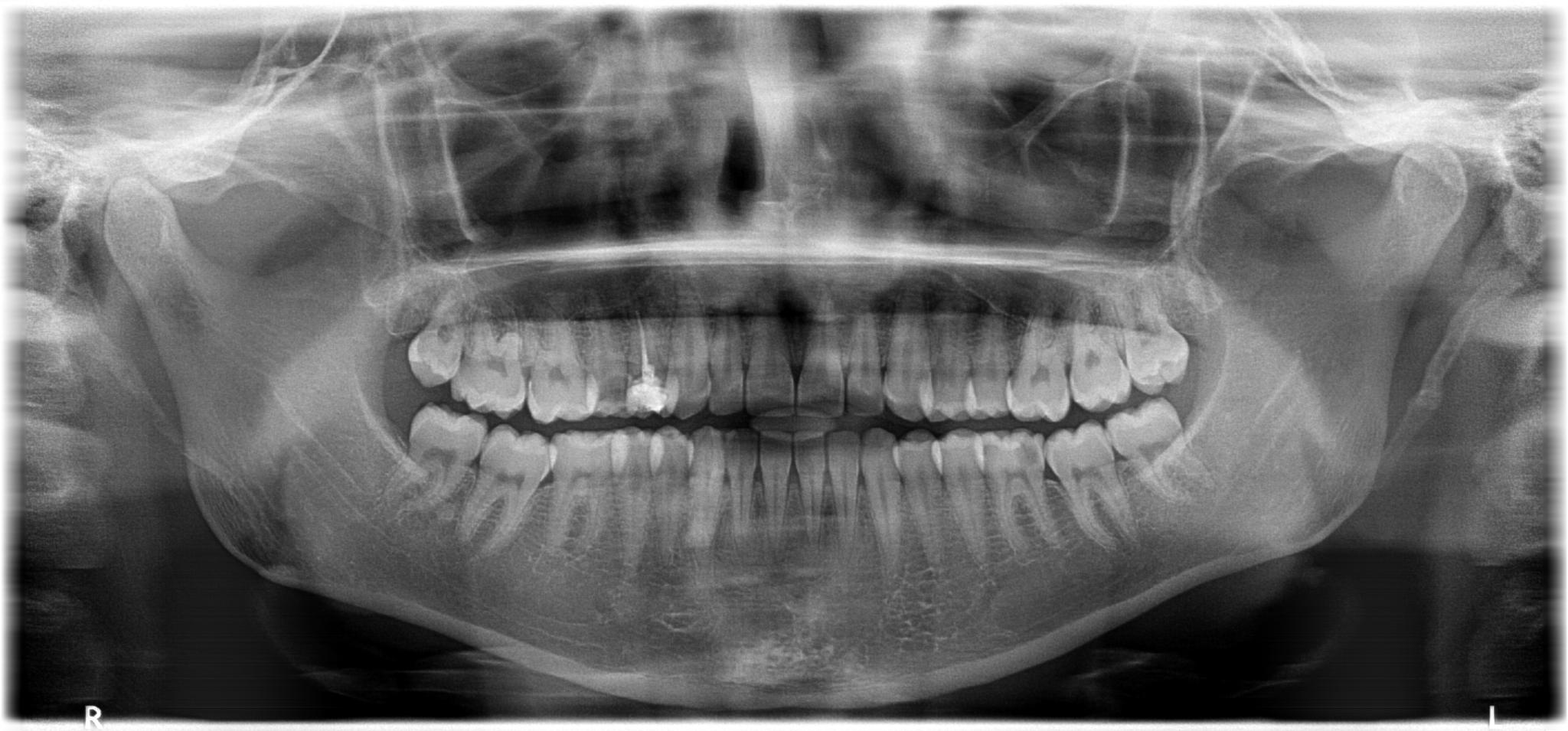Premolars: (484, 222, 1487, 731), (312, 219, 952, 622)
